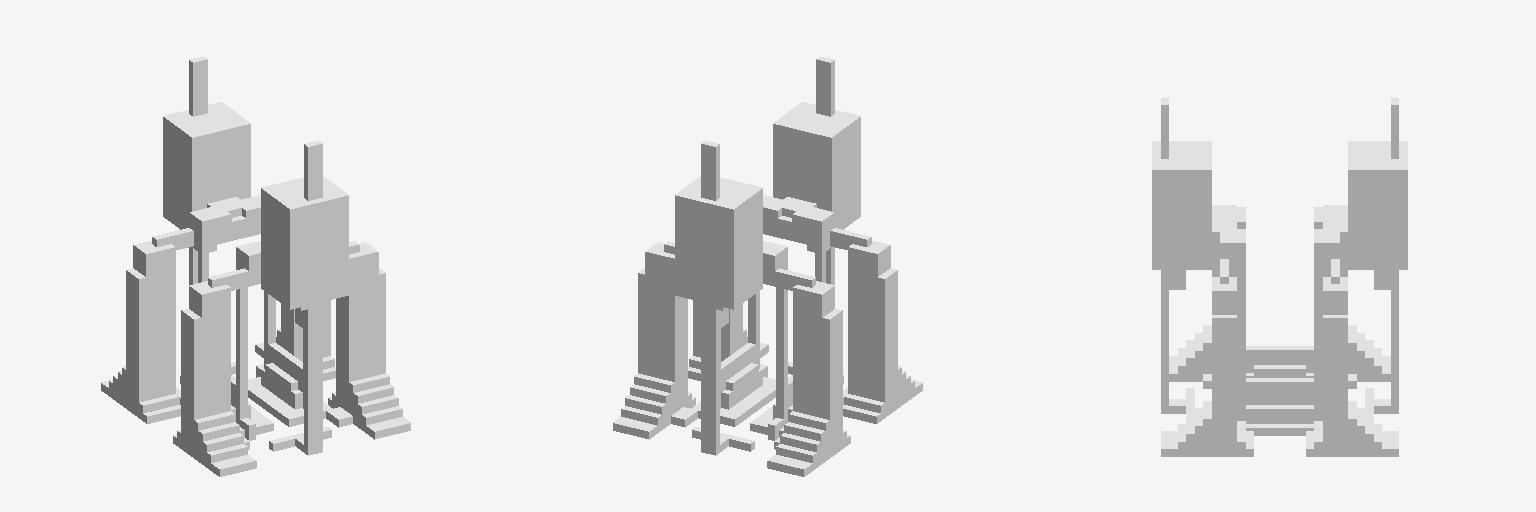
Rendered from building04.obj.
3 views of the same model, side by side, from view 1: azimuth 30°, elevation 25°; view 2: azimuth 150°, elevation 25°; view 3: azimuth 270°, elevation 25° (orthographic).
Parts seen in each view (by area): view 1: object 1; view 2: object 1; view 3: object 1.
Boxes of the visible parts, x1,y1,x2,y2 form: object 1: [101, 56, 410, 476]; object 1: [613, 56, 922, 476]; object 1: [1152, 98, 1407, 456].
Size of the model in its own units: 2.6 by 4 by 3.